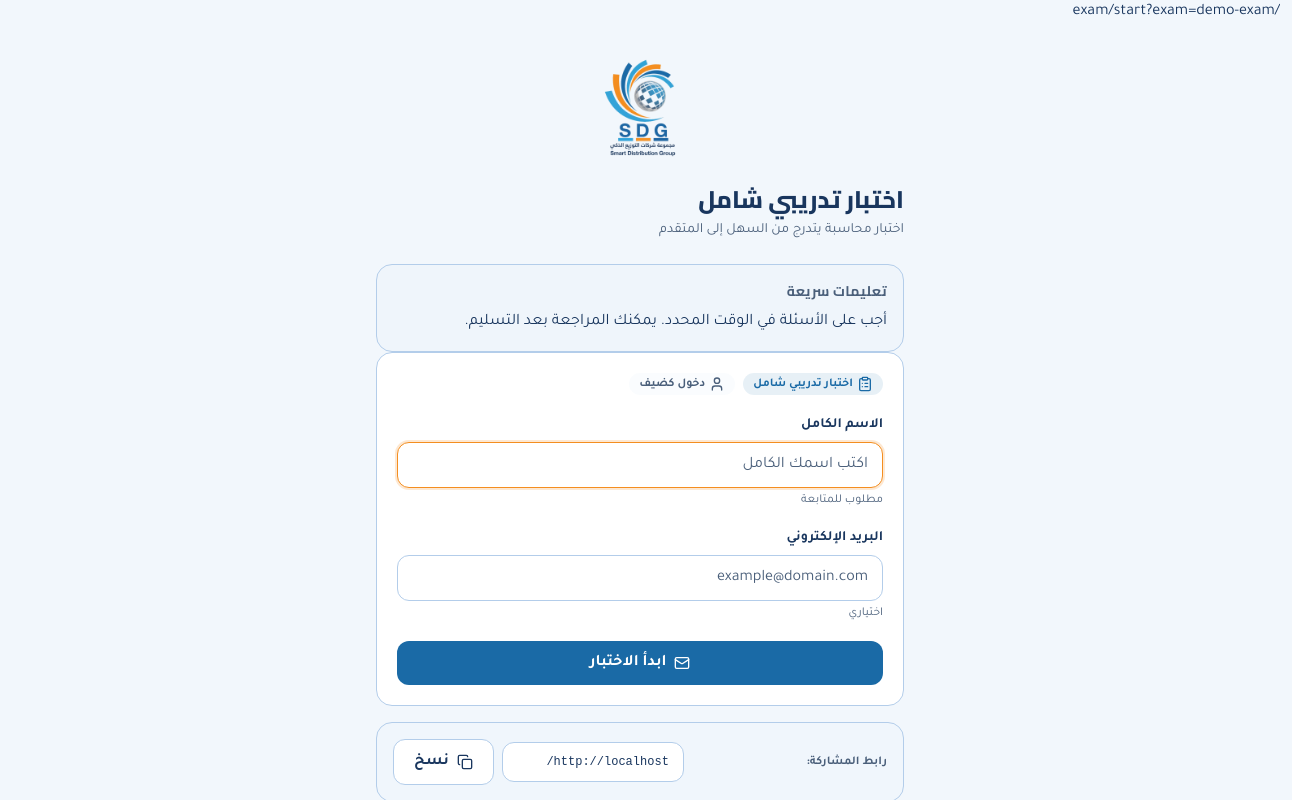
Scenario: ExamStartPage — تدفق دخول المتقدم › يعرض أخطاء RPC بوضوح ويعيد تفعيل الزر
Type "أحمد" into the field with placeholder "اكتب اسمك الكامل" at [640, 465], box [397, 442, 883, 488]
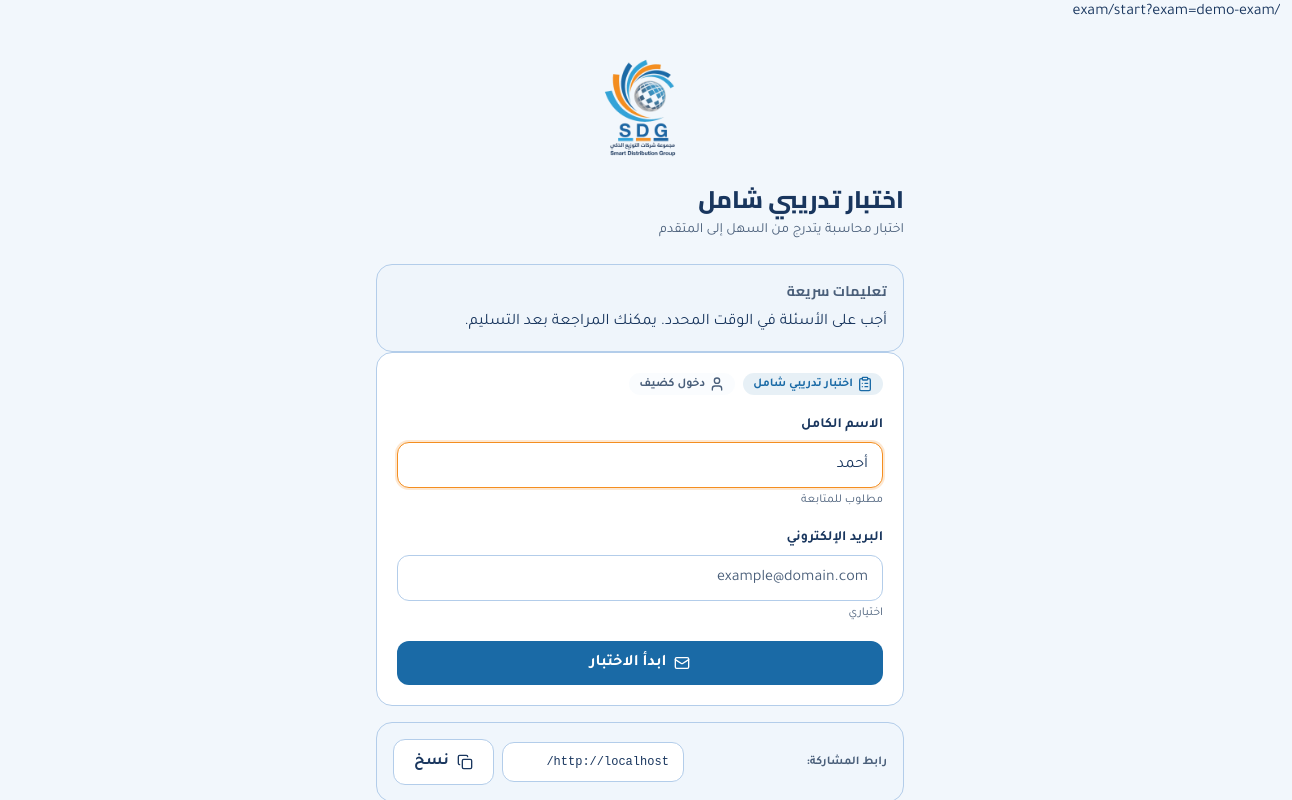
Click the button "ابدأ الاختبار" at [640, 663], box [397, 641, 883, 685]
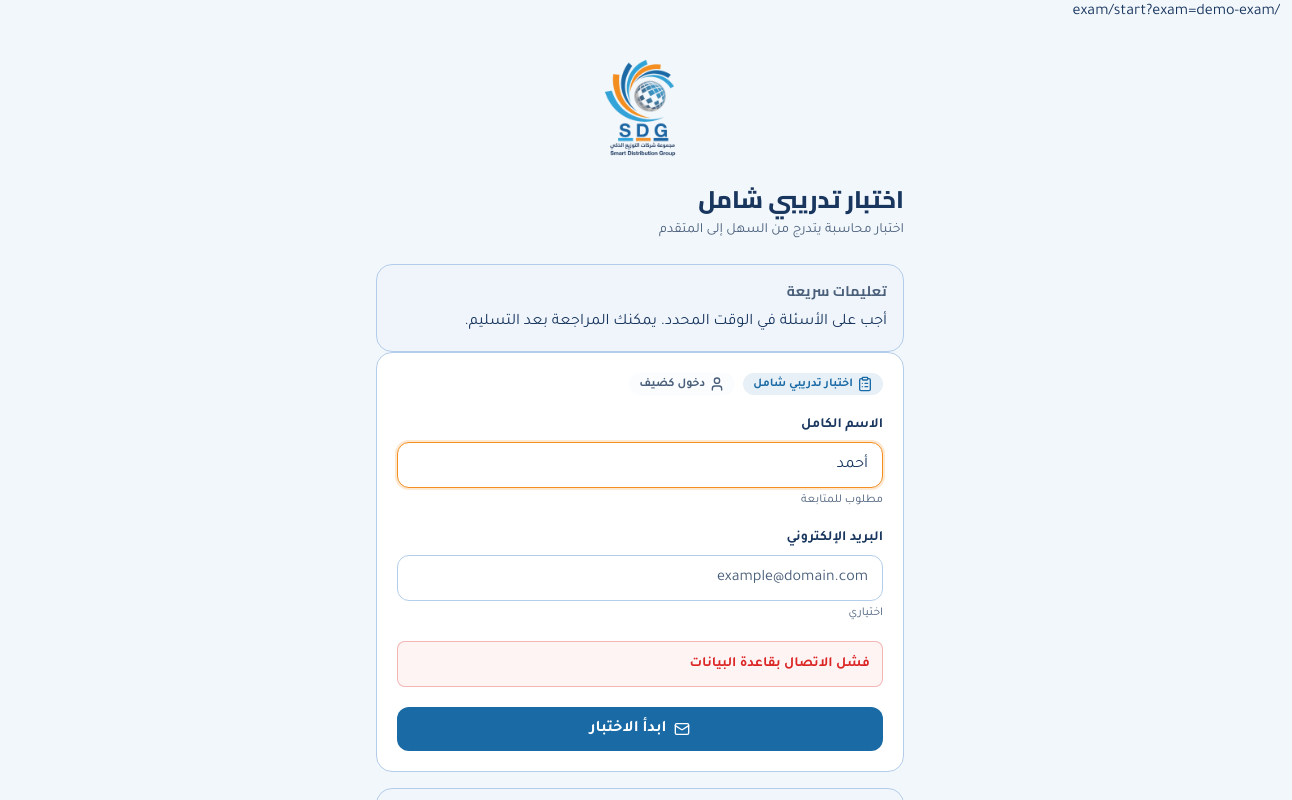
Expected: the button "ابدأ الاختبار" is enabled, [397, 707, 883, 751]
Expected: the message reads "فشل الاتصال بقاعدة البيانات", [690, 657, 870, 671]
